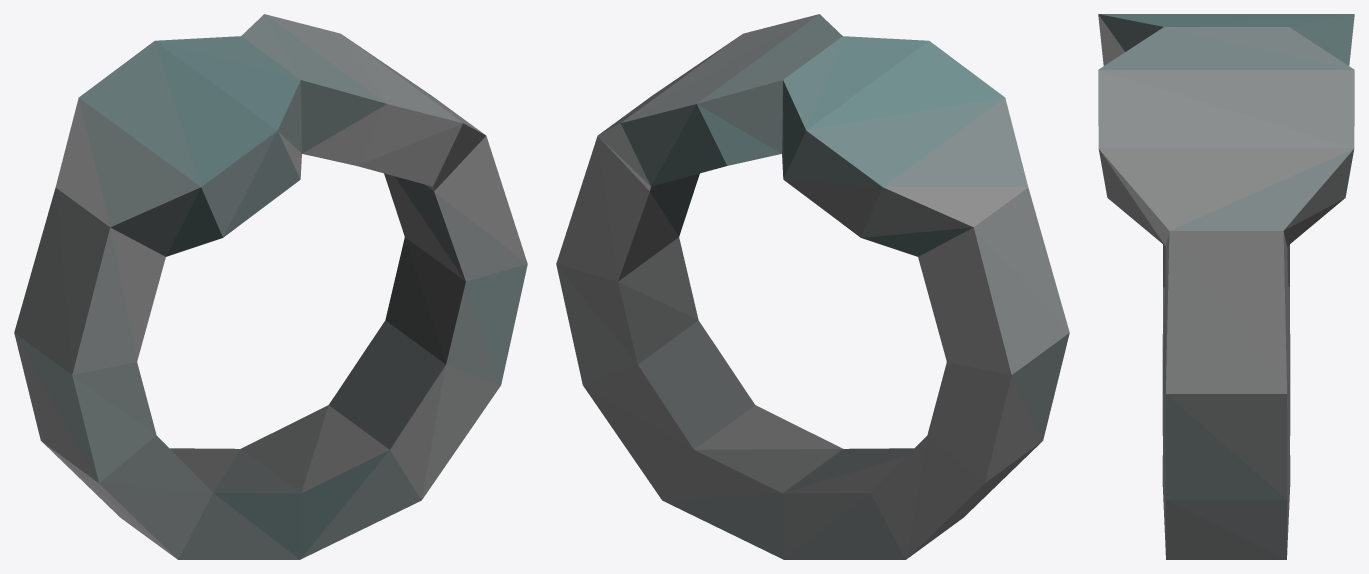
The model's file is prop_treasure_ring_silver.fbx.
3 views of the same model, side by side, from view 1: azimuth 30°, elevation 25°; view 2: azimuth 150°, elevation 25°; view 3: azimuth 270°, elevation 25° (orthographic). The views are drawn at different scales.
Parts seen in each view (by area): view 1: prop_treasure_ring_silver; view 2: prop_treasure_ring_silver; view 3: prop_treasure_ring_silver.
Part boxes in pixels (x1,y1,x2,y2): prop_treasure_ring_silver: (14, 14, 527, 559); prop_treasure_ring_silver: (556, 14, 1069, 559); prop_treasure_ring_silver: (1098, 14, 1354, 559).
Bounding box in the file's own units: 0.229 × 0.2308 × 0.107.
